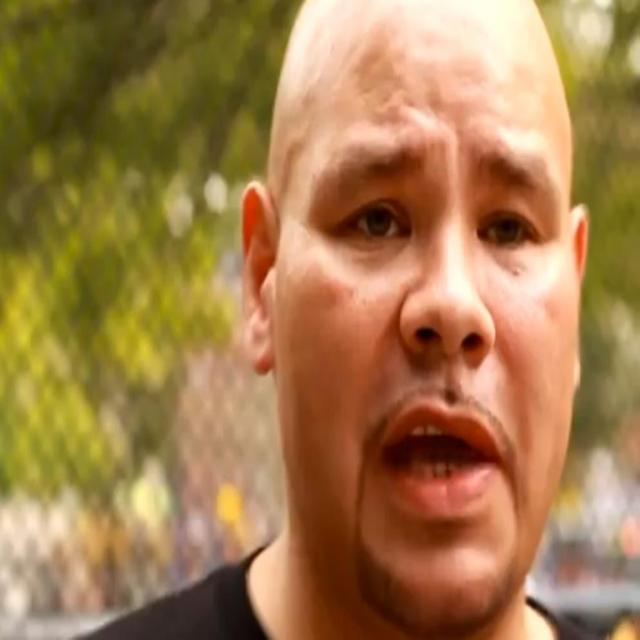Face: (282, 16, 574, 619)
